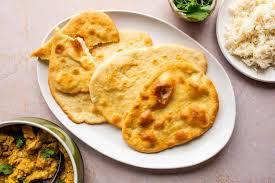Naan: (34, 15, 238, 163)
